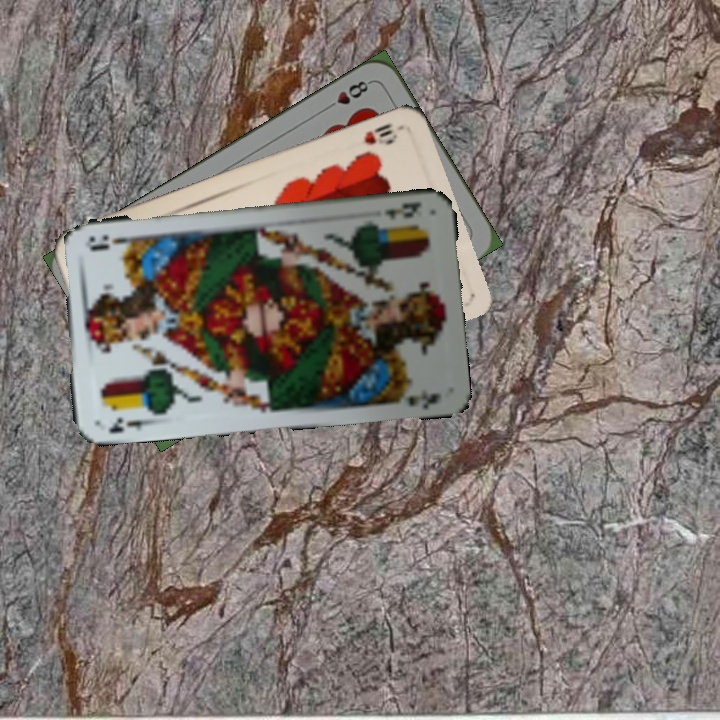EK: (105, 413, 156, 436), (381, 198, 424, 222)
H10: (360, 119, 404, 147)
H8: (321, 76, 374, 113)
